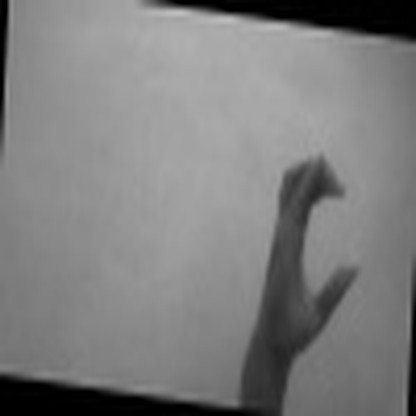c: (262, 147, 365, 348)
